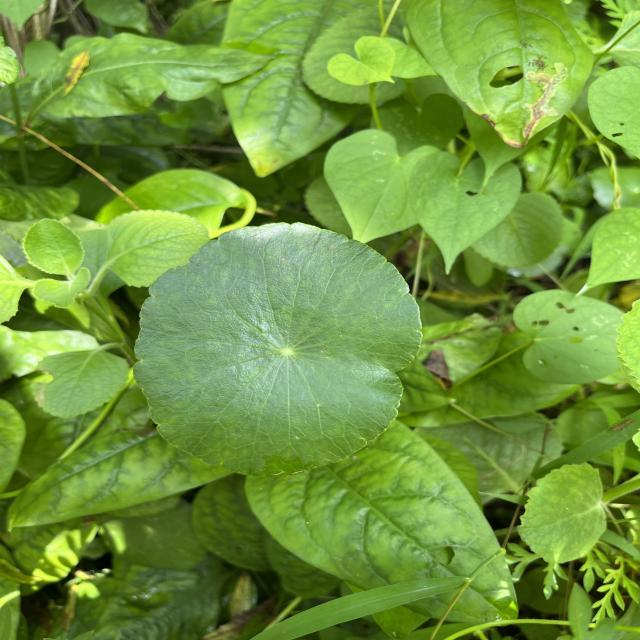Bacopa monnieri: (128, 219, 428, 480)
